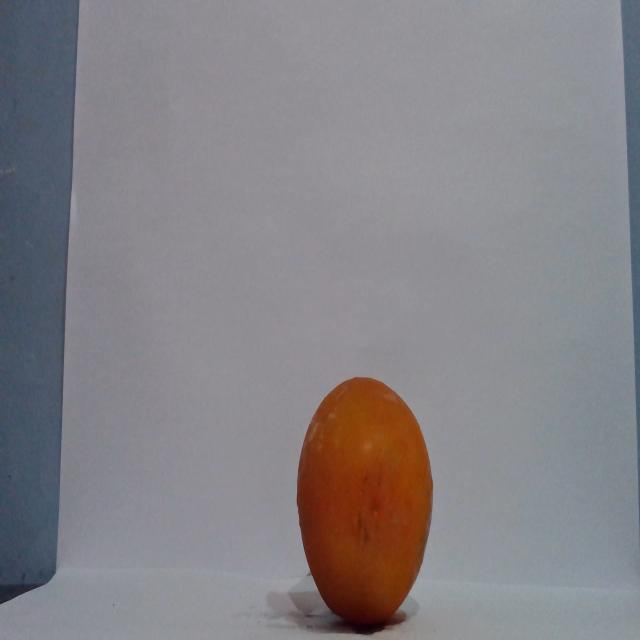Red: (294, 375, 434, 627)
